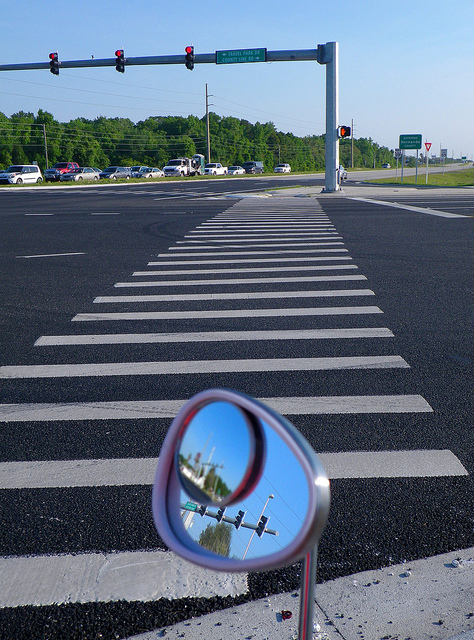Zebra Crossing: (203, 197, 382, 382)
